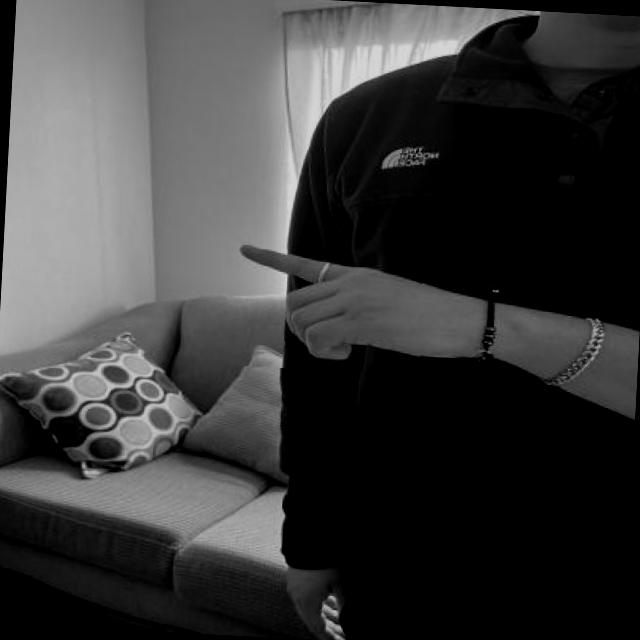S: (223, 235, 492, 379)
